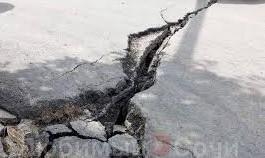alligator-crack: (1, 96, 106, 158)
crack: (108, 0, 228, 156)
